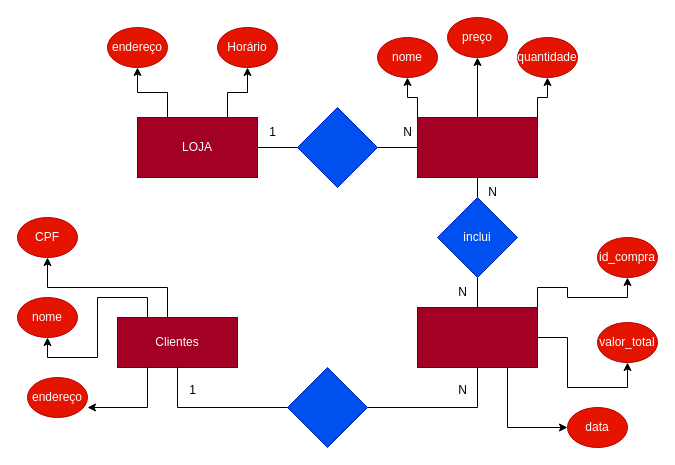
The diagram is 675 pixels wide and 465 high, and some of its shapes have lost their labels. Each missing label, with the centre of its shape:
"Compra" belongs at pixel 477 337.
"fazer" belongs at pixel 327 407.
"Produtos" belongs at pixel 477 147.
"vende" belongs at pixel 337 147.
